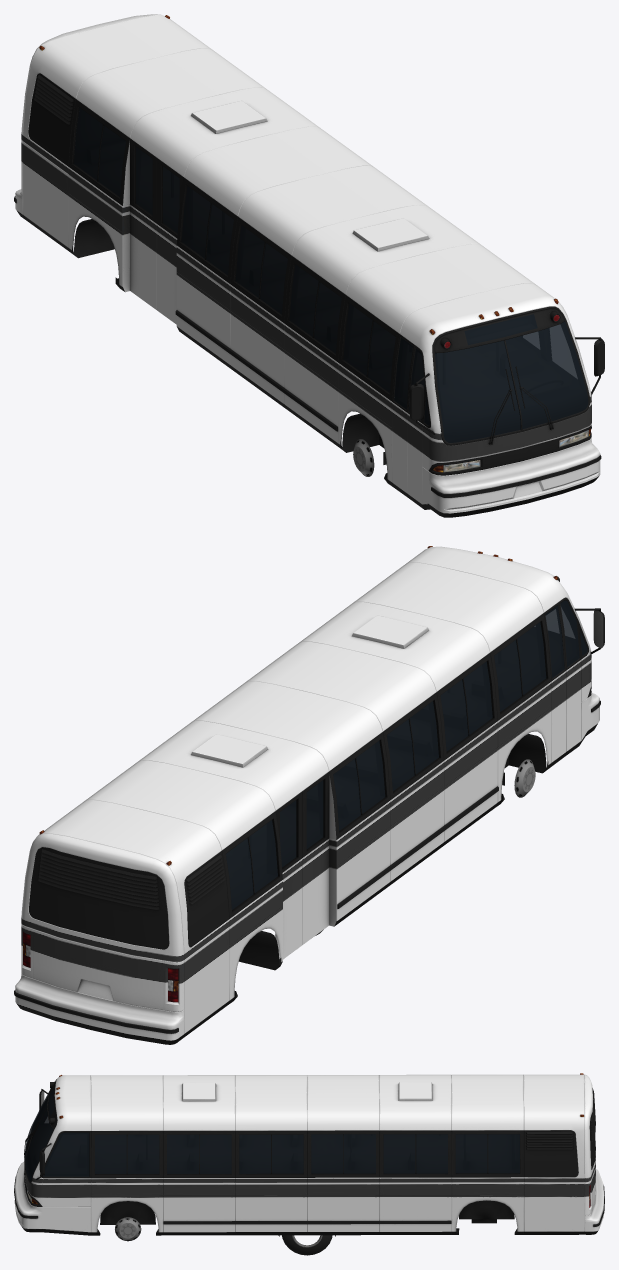
The model's file is bus.glb.
The picture shows the model from 3 angles, top to bottom: view 1: azimuth 30°, elevation 25°; view 2: azimuth 150°, elevation 25°; view 3: azimuth 270°, elevation 25°; orthographic projection. The views are drawn at different scales.
Visible parts, largest first — view 1: paint, glass; view 2: paint, glass; view 3: paint, glass, wheel0.
Part boxes in pixels (x1=…): paint: x1=14, y1=14, x2=604, y2=517; glass: x1=73, y1=108, x2=588, y2=442; paint: x1=14, y1=546, x2=604, y2=1044; glass: x1=226, y1=600, x2=587, y2=909; paint: x1=14, y1=1074, x2=604, y2=1241; glass: x1=24, y1=1087, x2=519, y2=1181; wheel0: x1=278, y1=1235, x2=335, y2=1255.
Size of the model in its own units: 2.54 by 3.02 by 9.95.
Materials: 5 (4 with a texture image).
